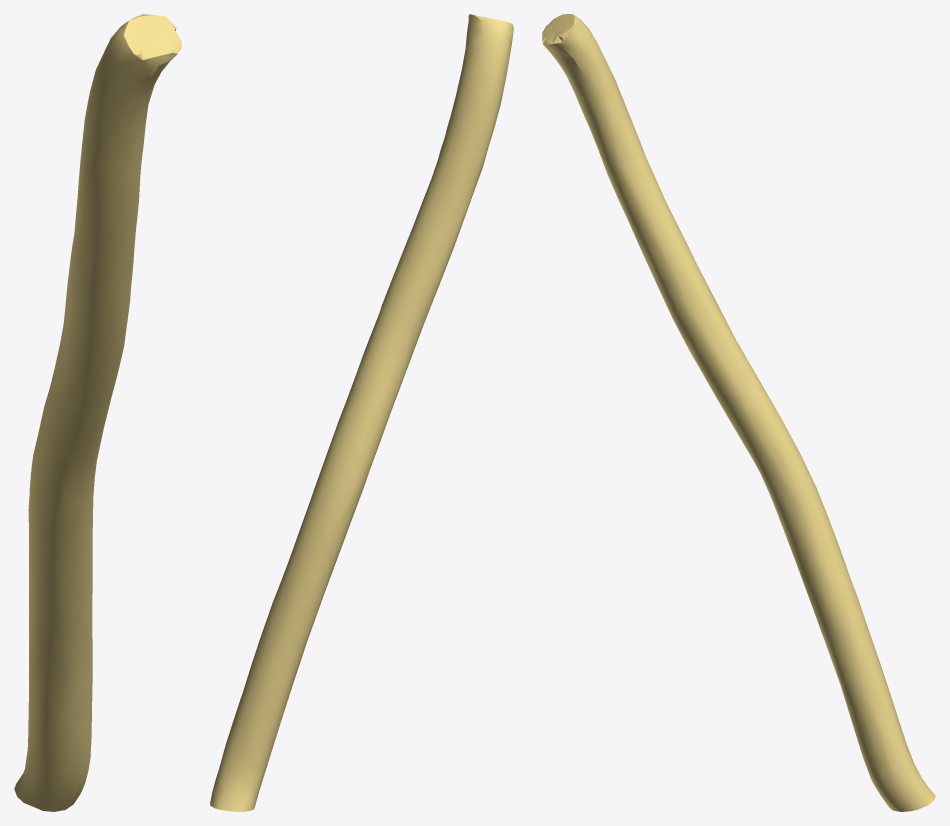
Rendered from fma73877-f_mm2521m.glb.
3 views of the same model, side by side, from view 1: azimuth 30°, elevation 25°; view 2: azimuth 150°, elevation 25°; view 3: azimuth 270°, elevation 25° (orthographic). The views are drawn at different scales.
Visible parts, largest first — view 1: FMA73877-F_MM2521M; view 2: FMA73877-F_MM2521M; view 3: FMA73877-F_MM2521M.
Boxes of the visible parts, x1,y1,x2,y2 form: FMA73877-F_MM2521M: (14, 14, 181, 811); FMA73877-F_MM2521M: (210, 14, 513, 811); FMA73877-F_MM2521M: (542, 14, 935, 811).
Bounding box in the file's own units: 0.00466 × 0.0226 × 0.0109.
